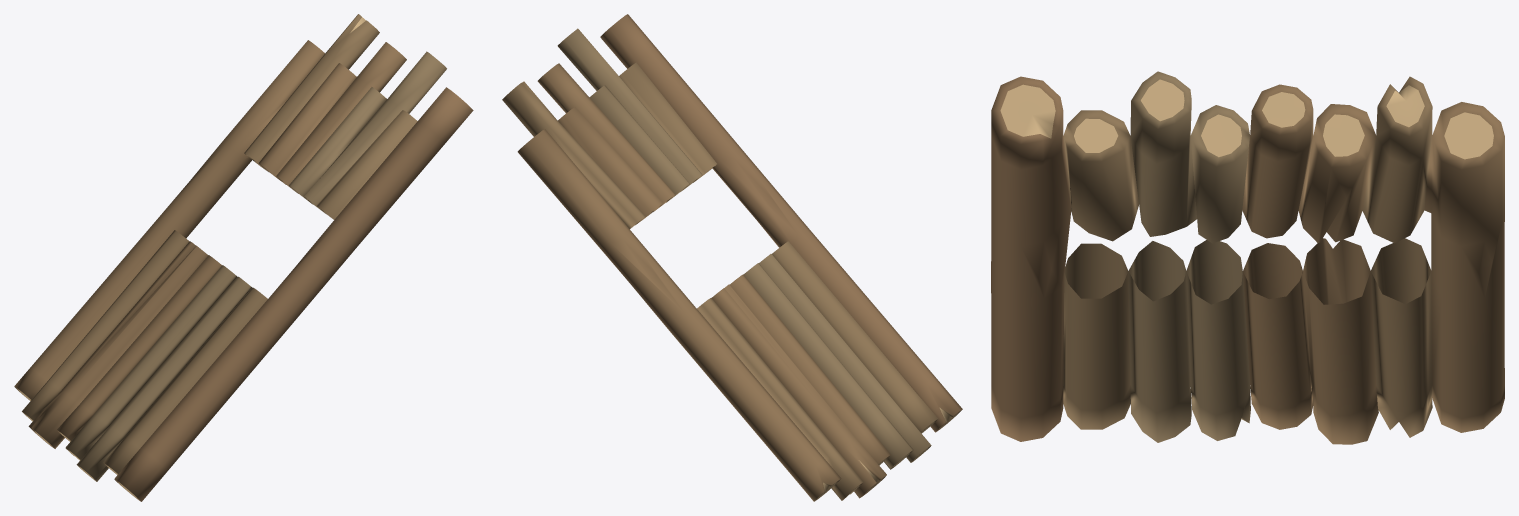
The model's file is rpgpp_ag_roof_01d_6x3x3_half.fbx.
3 renders of one model, left to right at view 1: azimuth 30°, elevation 25°; view 2: azimuth 150°, elevation 25°; view 3: azimuth 270°, elevation 25°, orthographic. The views are drawn at different scales.
Visible parts, largest first — view 1: rpgpp_ag_roof_01d_6x3x3_half; view 2: rpgpp_ag_roof_01d_6x3x3_half; view 3: rpgpp_ag_roof_01d_6x3x3_half.
Part boxes in pixels (x1,y1,x2,y2): rpgpp_ag_roof_01d_6x3x3_half: (14,14,473,501); rpgpp_ag_roof_01d_6x3x3_half: (502,14,962,501); rpgpp_ag_roof_01d_6x3x3_half: (991,71,1504,444).
Bounding box in the file's own units: 4.96 × 4.49 × 3.
